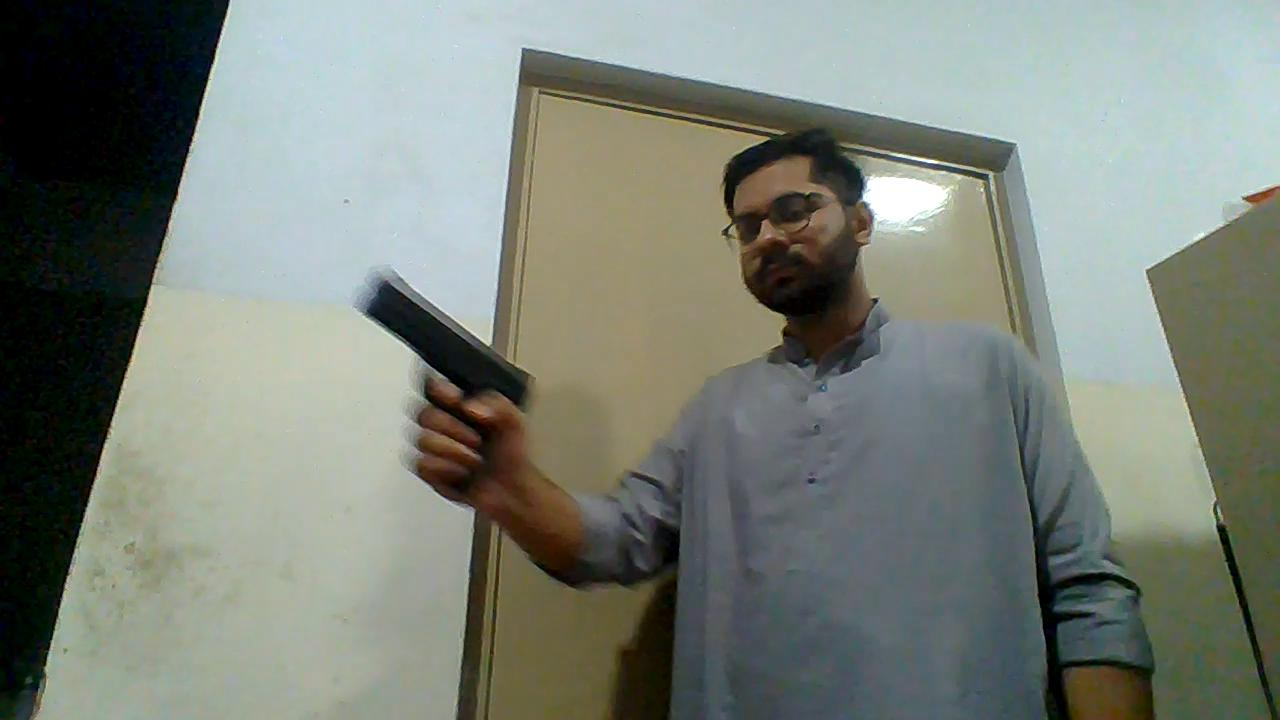criminal: (353, 126, 1153, 720)
weapon: (356, 264, 534, 445)
